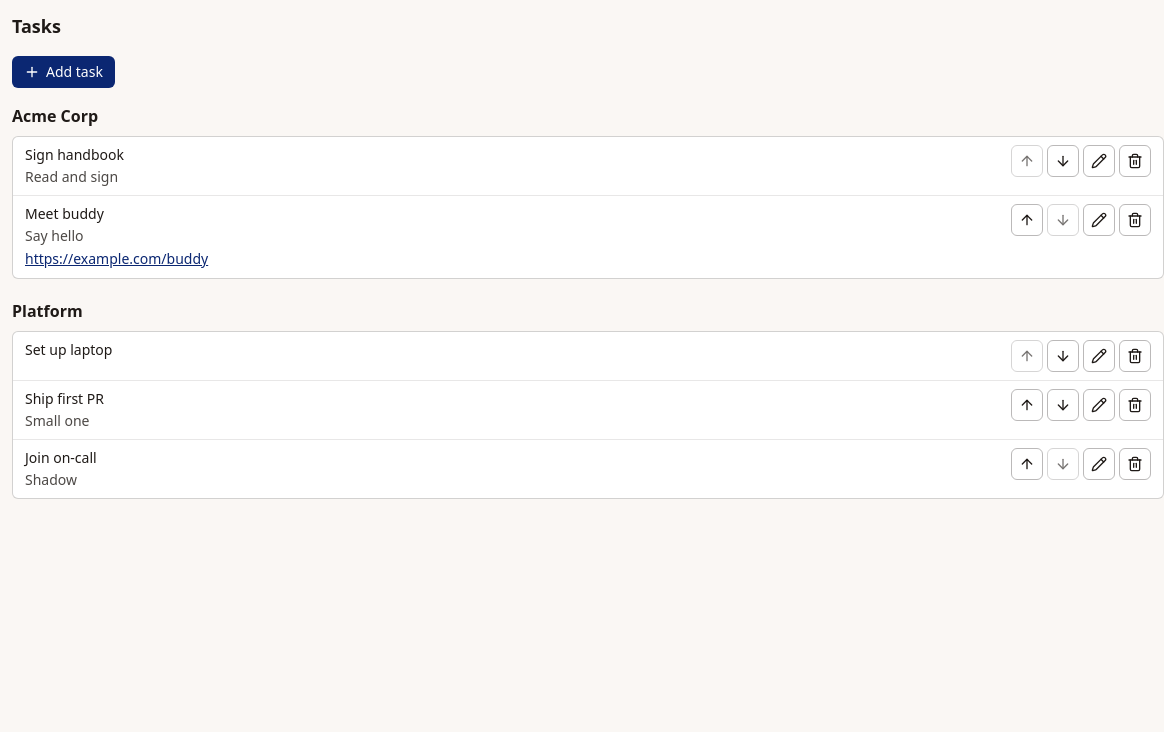
Scenario: TasksTab › reorder › a failed second PATCH restores the first task's original position
Click the button named "Move down Set up laptop" at (1063, 356), box [1047, 340, 1079, 372]
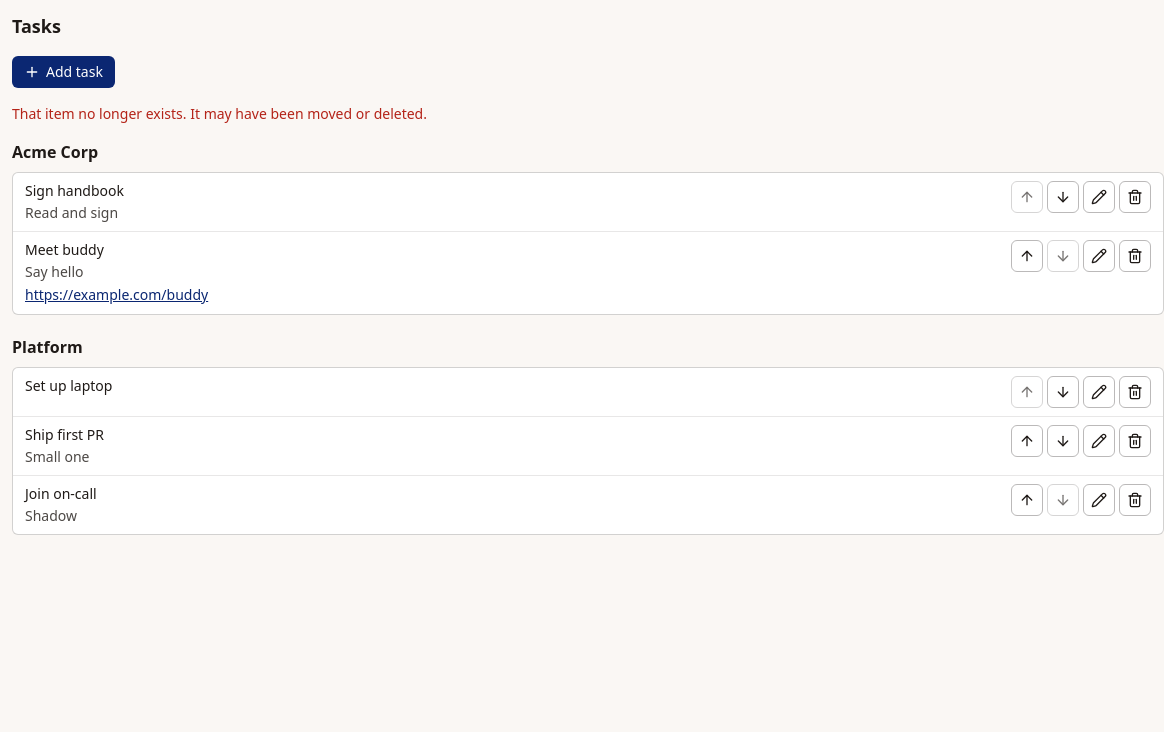
Check: the message "That item no longer exists. It may have been moved or deleted." is shown, box [12, 104, 427, 123]
